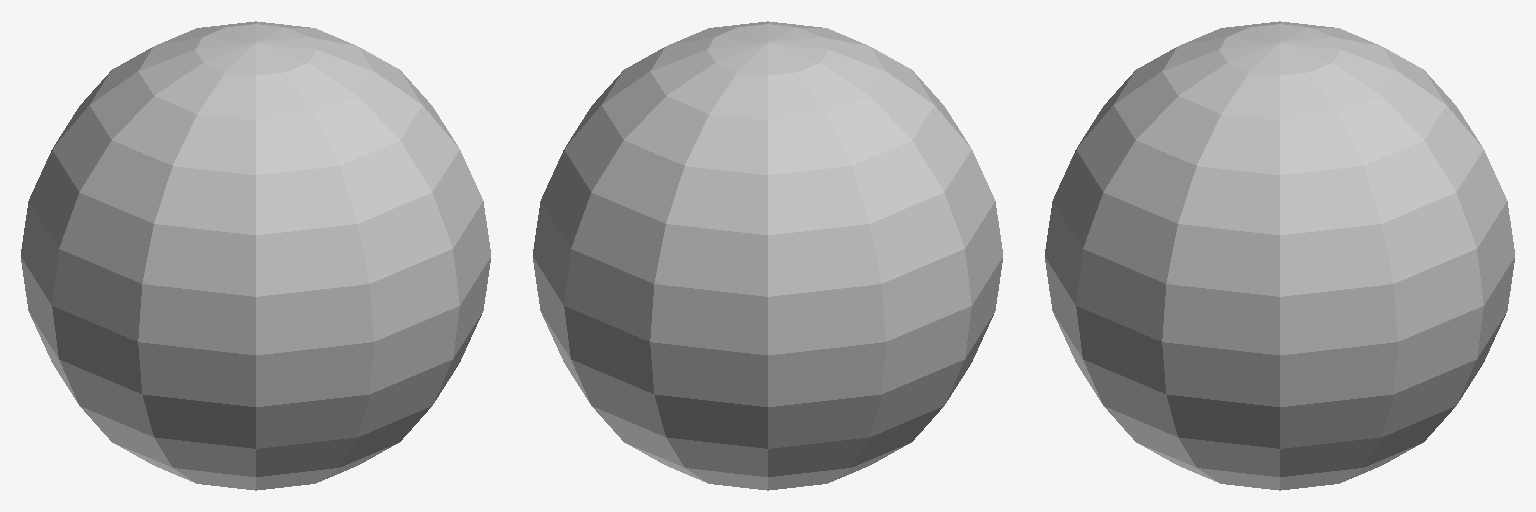
Rendered from lowpoly_sphere.obj.
The picture shows the model from 3 angles: view 1: azimuth 30°, elevation 25°; view 2: azimuth 150°, elevation 25°; view 3: azimuth 270°, elevation 25°; orthographic projection.
Parts seen in each view (by area): view 1: Sphere; view 2: Sphere; view 3: Sphere.
Part boxes in pixels (x1,y1,x2,y2): Sphere: (21,21,490,490); Sphere: (533,21,1002,490); Sphere: (1045,21,1514,490).
Size of the model in its own units: 2 by 2 by 2.